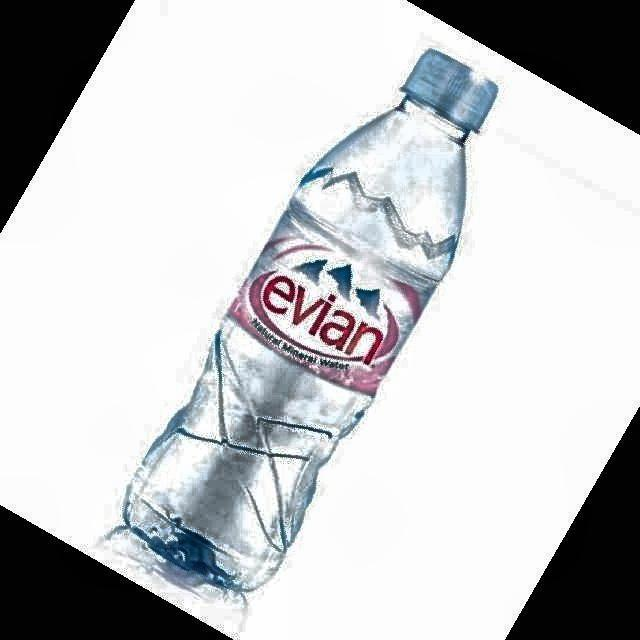plastic: (125, 50, 498, 591)
